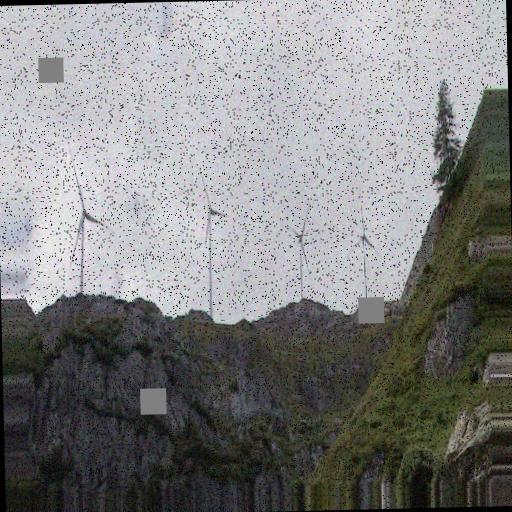wind turbine: (194, 173, 229, 318), (69, 165, 105, 297), (277, 203, 315, 304)
